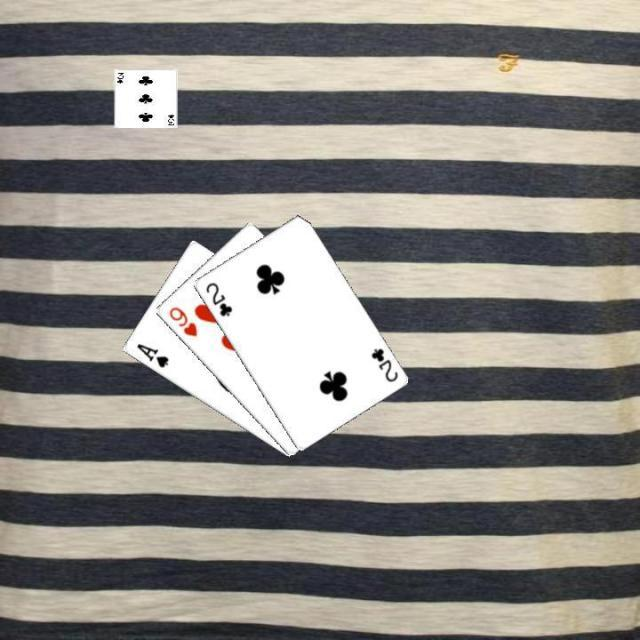2C: (201, 278, 234, 318), (366, 344, 399, 384)
9H: (165, 303, 199, 339)
AS: (132, 340, 170, 370)
